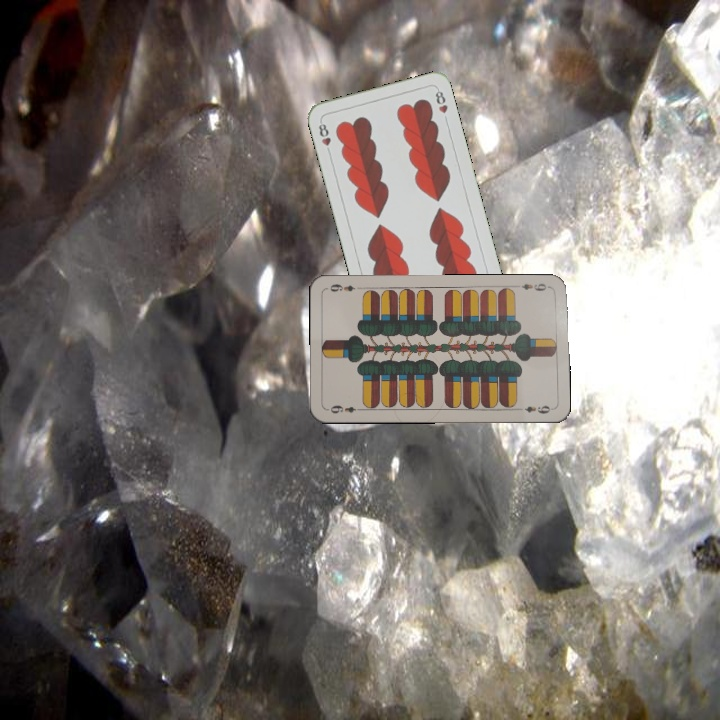E9: (513, 279, 553, 294), (327, 402, 365, 416)
H8: (314, 117, 333, 157)
